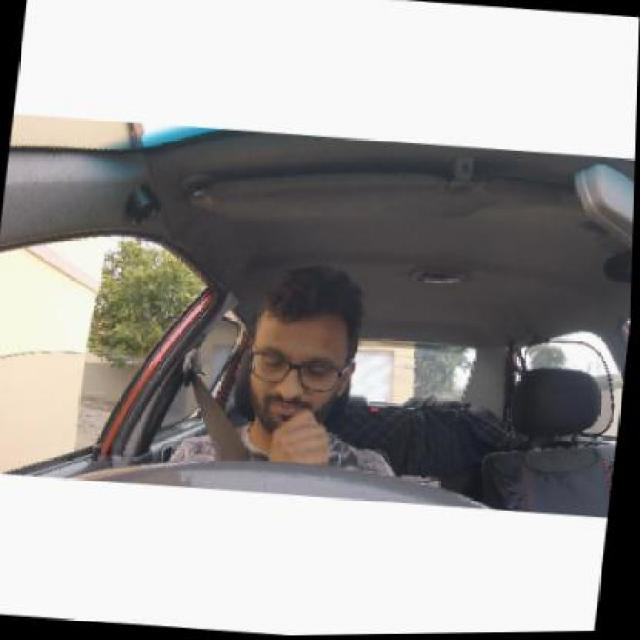drowsy: (241, 255, 360, 444)
